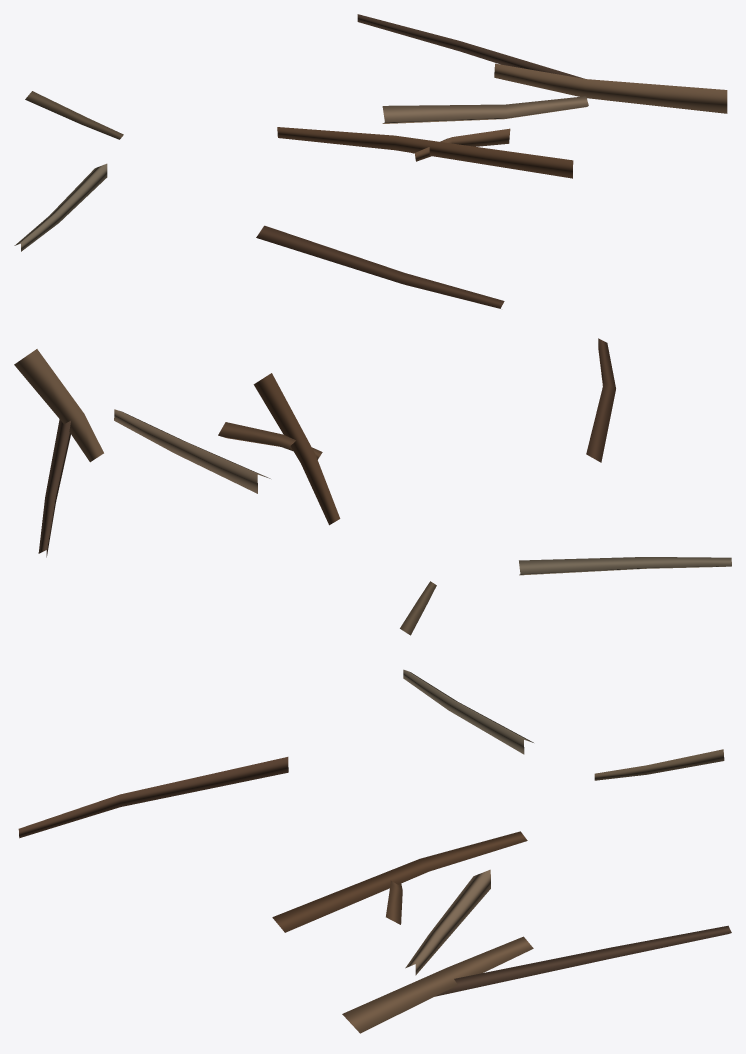
The model's file is twigs-b.lod2.glb.
3 views of the same model, one above another, from view 1: azimuth 30°, elevation 25°; view 2: azimuth 150°, elevation 25°; view 3: azimuth 270°, elevation 25° (orthographic). The views are drawn at different scales.
Size of the model in its own units: 1.27 by 0.0451 by 1.06.
